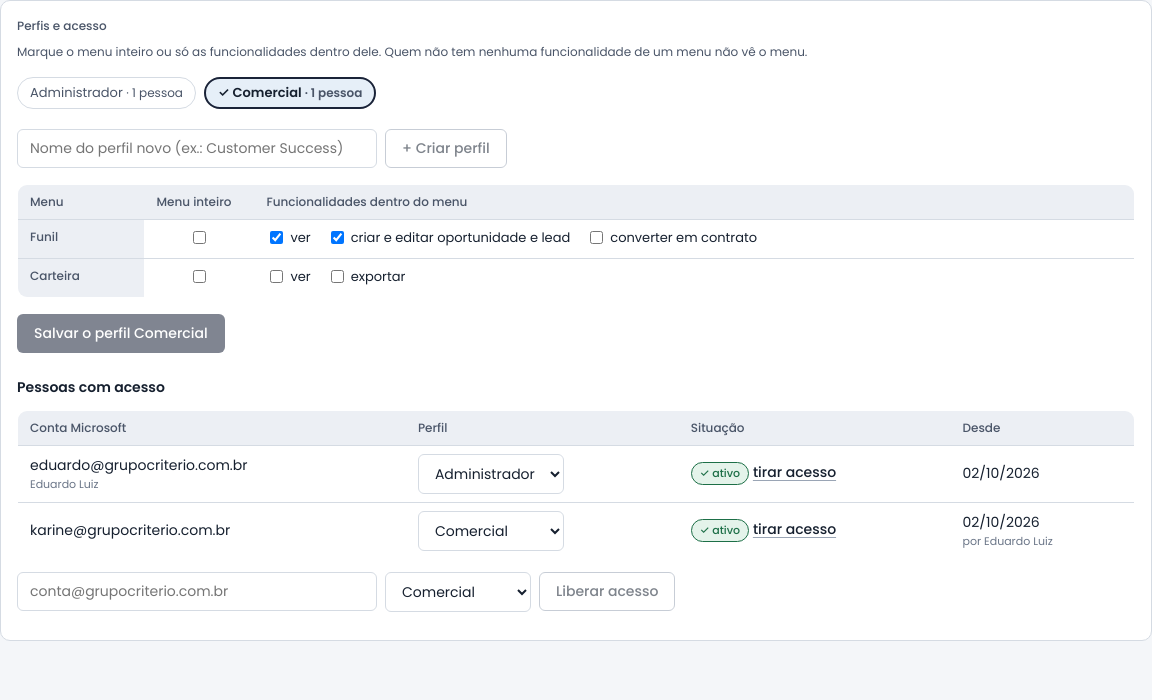
it: Perfis e acesso › o erro do servidor aparece com o motivo
This screenshot has width=1152, height=700.
Click the button "tirar acesso" in the row of "eduardo@grupocriterio.com.br" at (794, 473), box left=753, top=462, right=836, bottom=483
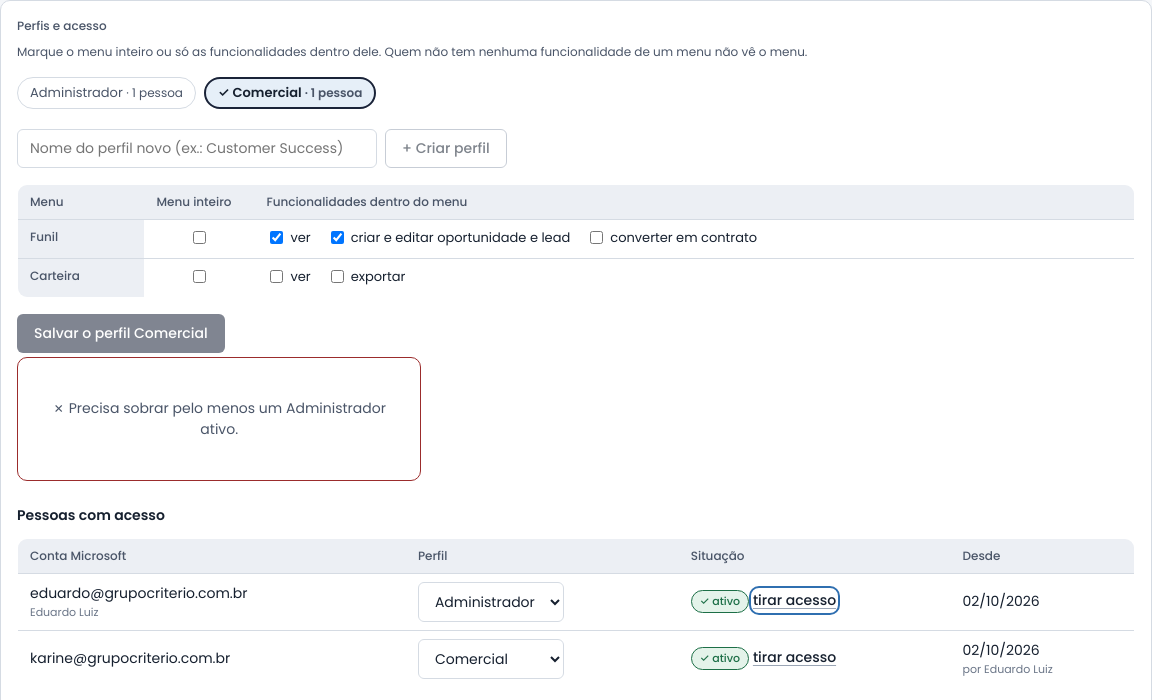
Expected: the message shows "Precisa sobrar pelo menos um Administrador ativo.", left=69, top=398, right=386, bottom=438
